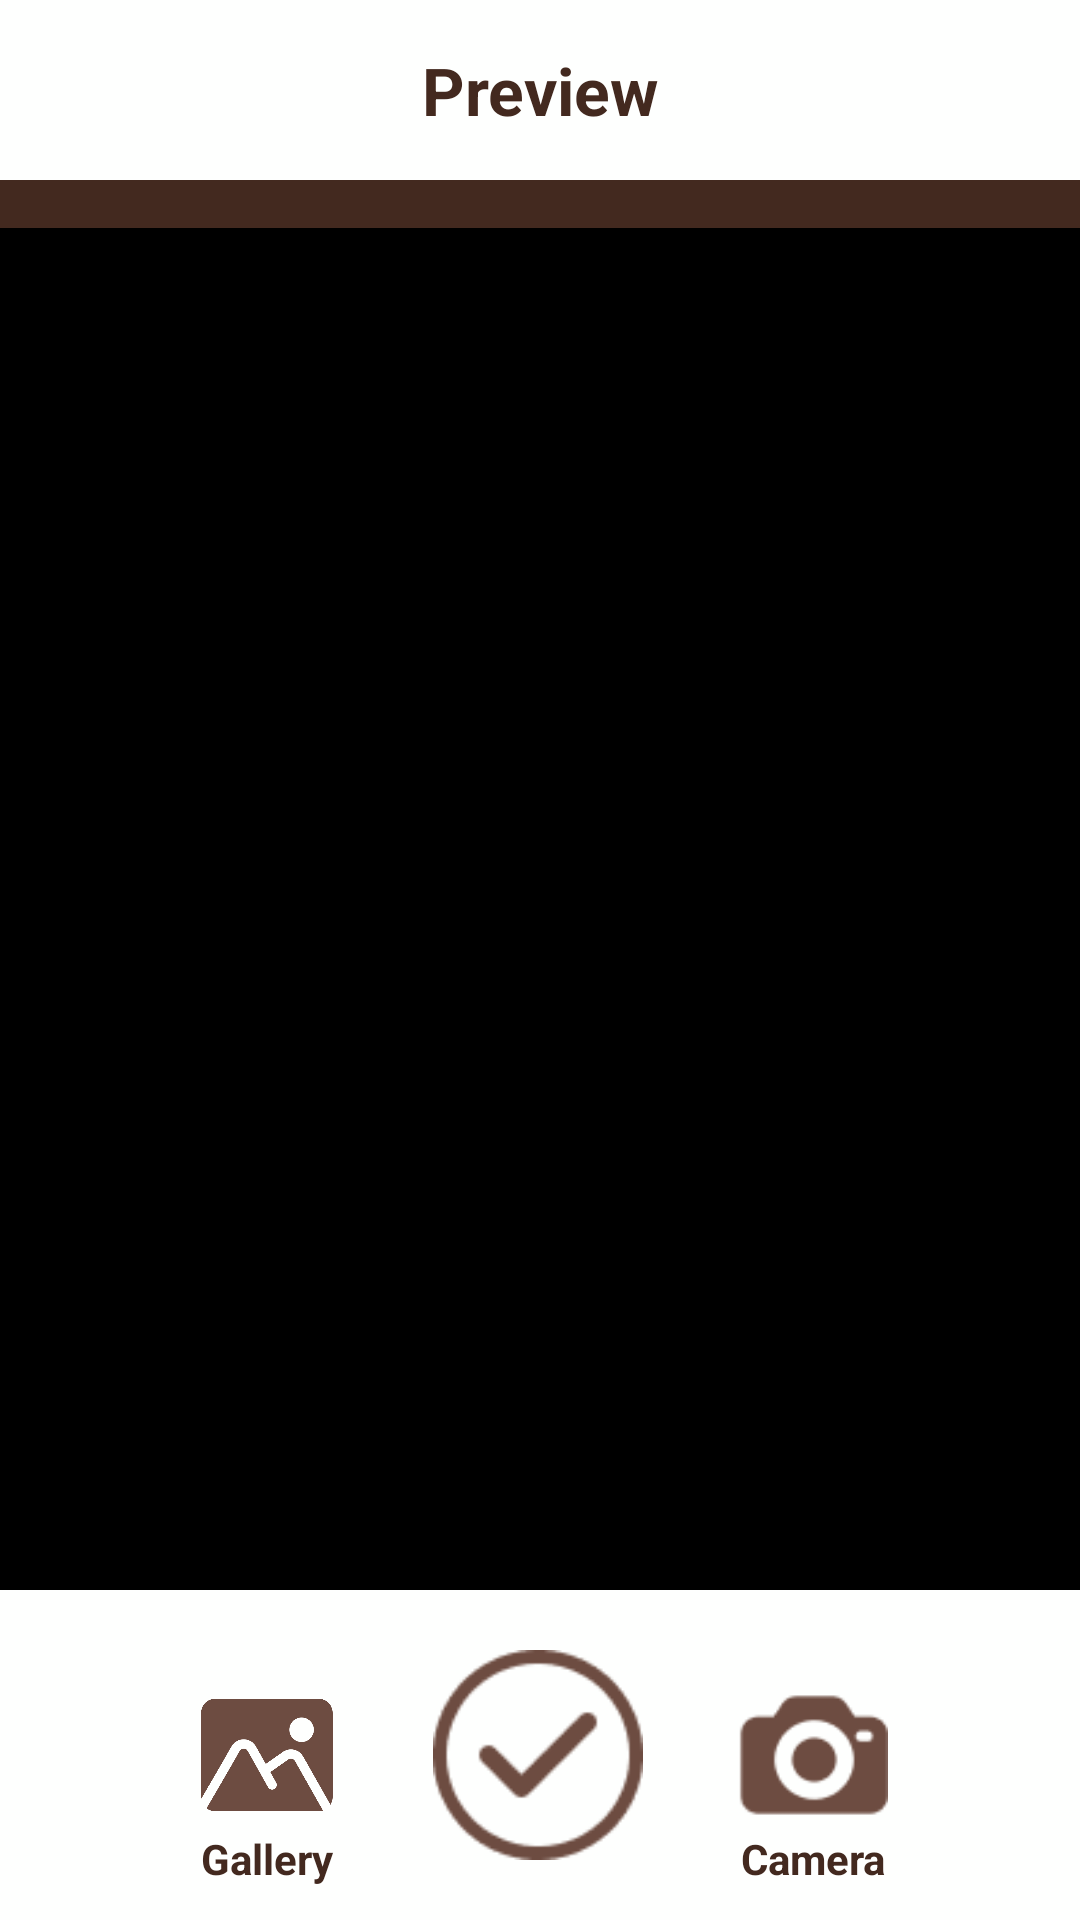

Icon click points for this 1080*1920 phone screenshot, format (x=x, y=y):
checkbtn: (x=538, y=1755)
